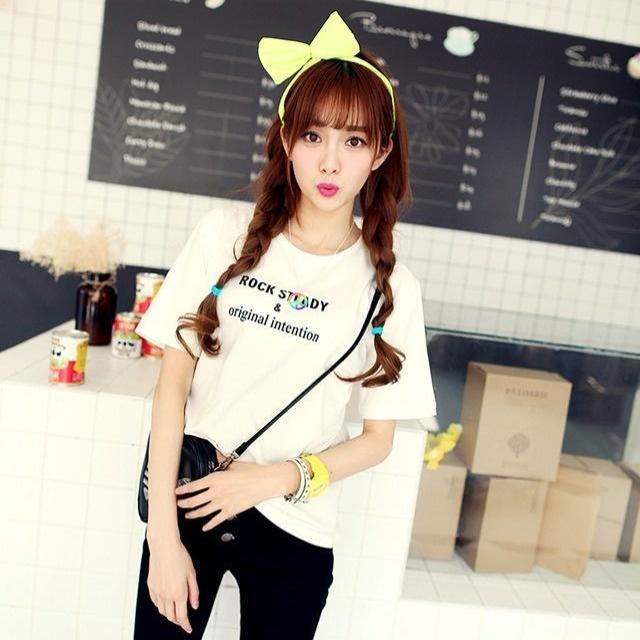short-sleeve-top: (149, 198, 449, 496)
